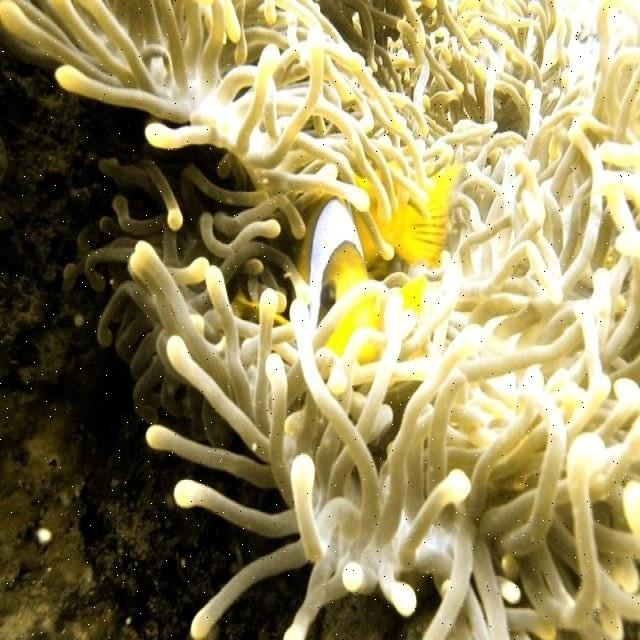fish: (292, 171, 456, 324)
